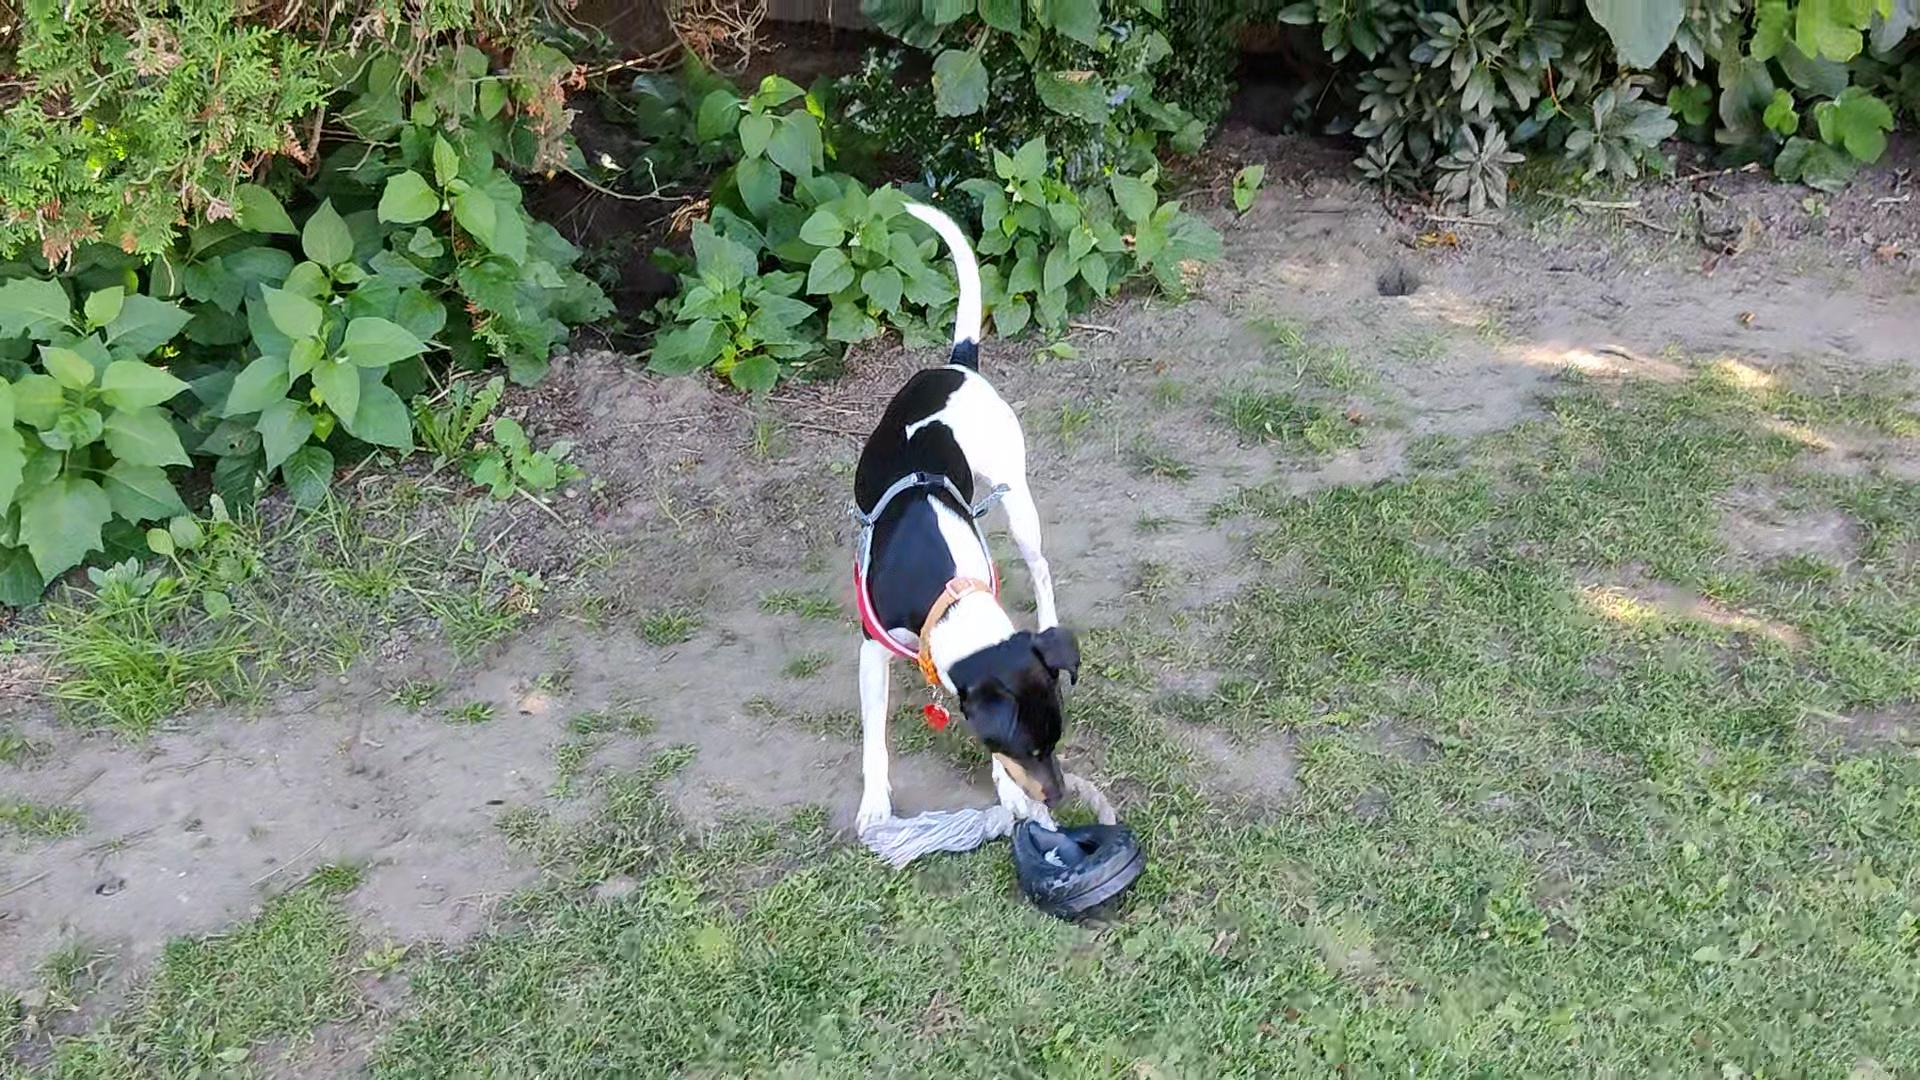Dog: (837, 193, 1095, 843)
